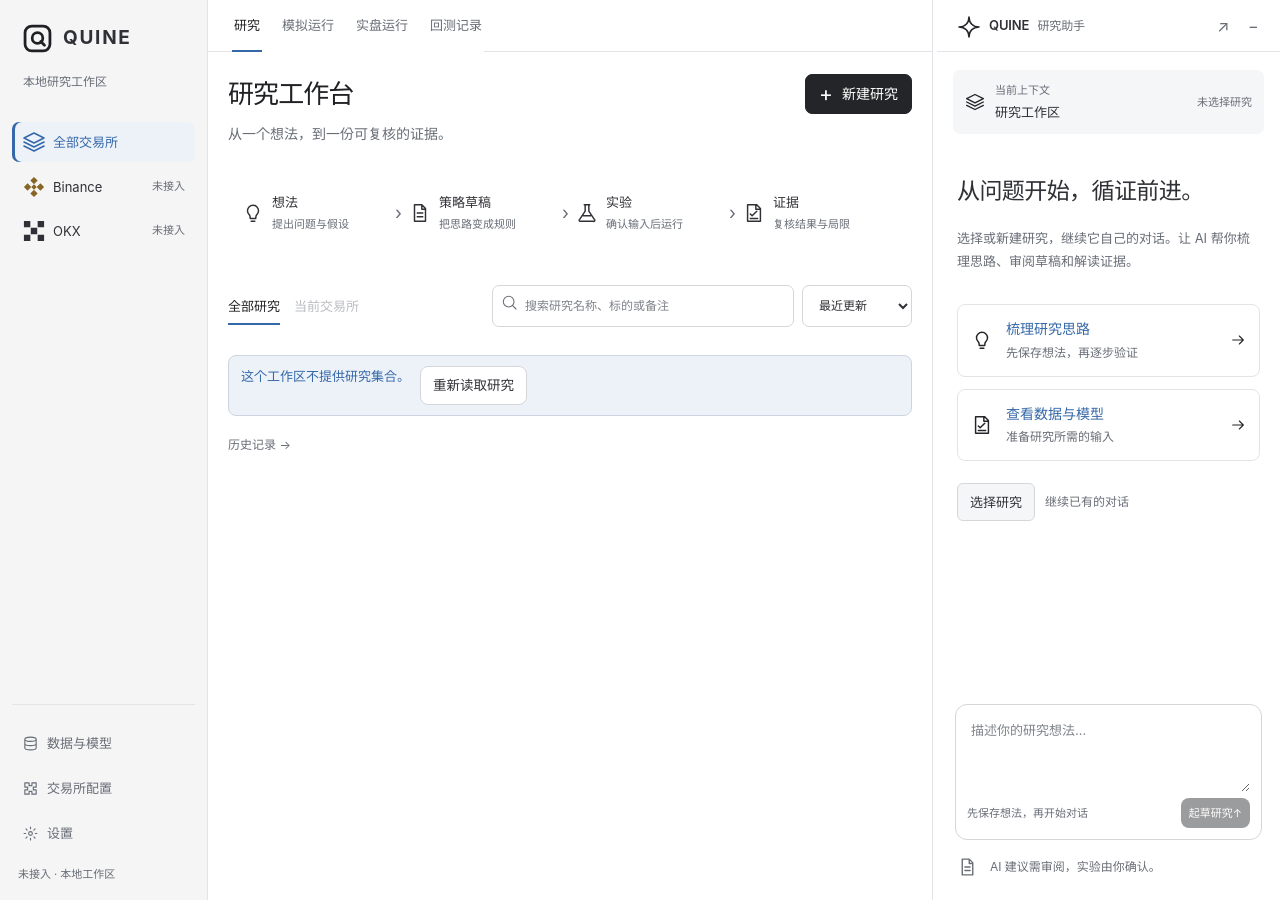
Scenario: stages an assistant idea without creating research and retains it when the form is closed
In the text box labelled "研究想法": (1108, 754) x1=967 y1=716 x2=1250 y2=792, type "观察不同波动阶段的表现"
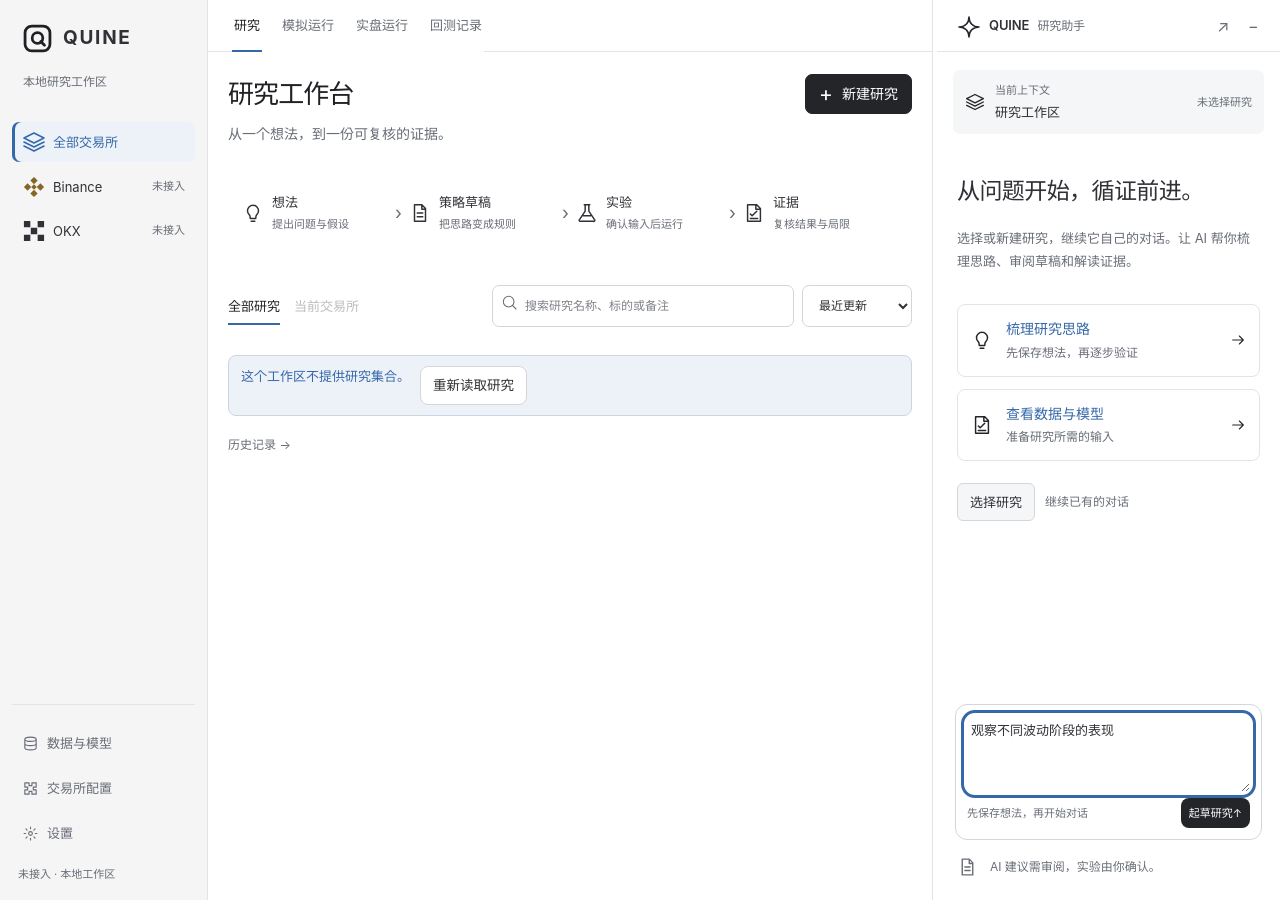
Click the button "起草研究 ↑": (1215, 813) x1=1181 y1=798 x2=1250 y2=828
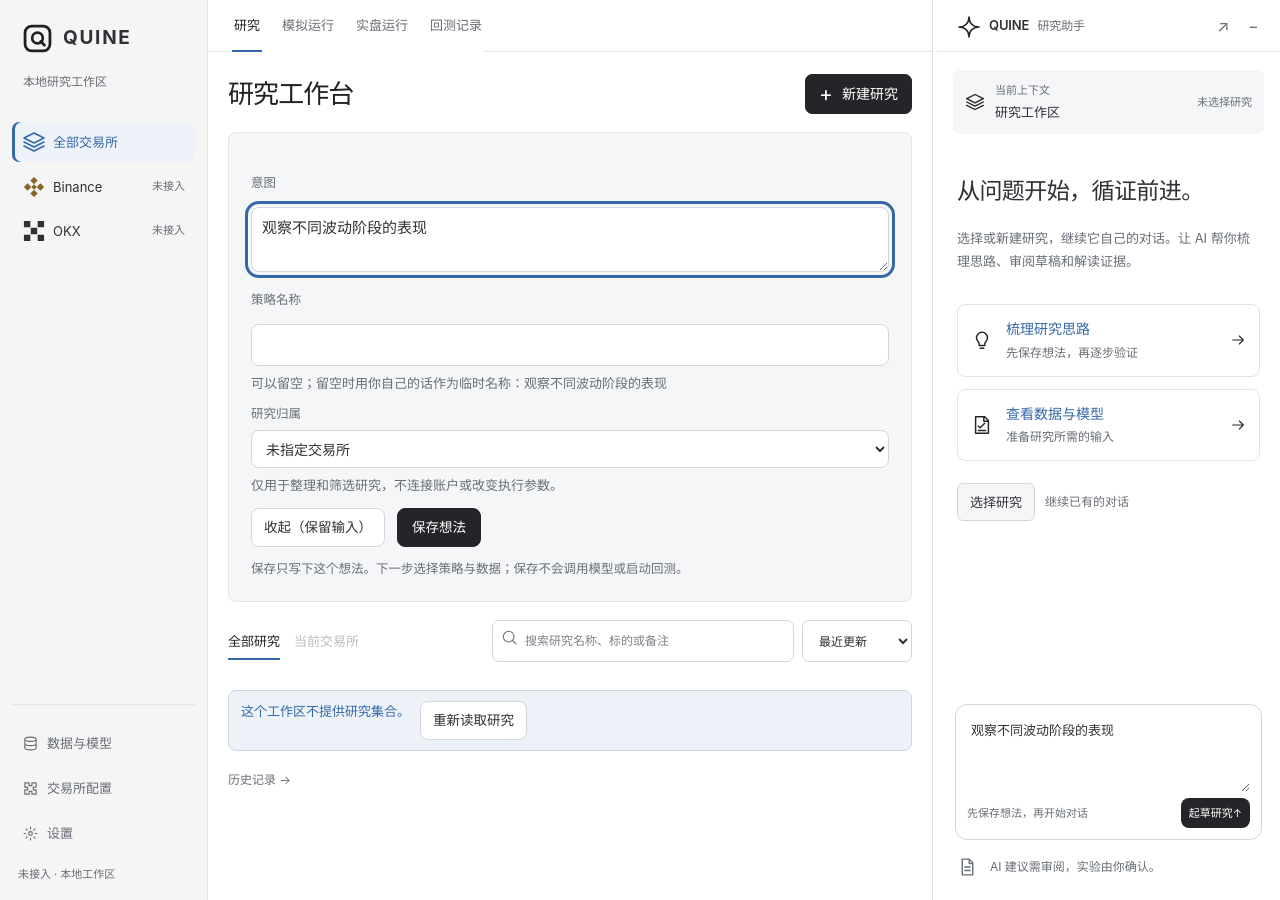
Result: the text box labelled "意图" holds "观察不同波动阶段的表现" at x1=251 y1=207 x2=889 y2=272
Click the button "收起（保留输入）": (318, 527) x1=251 y1=508 x2=385 y2=547
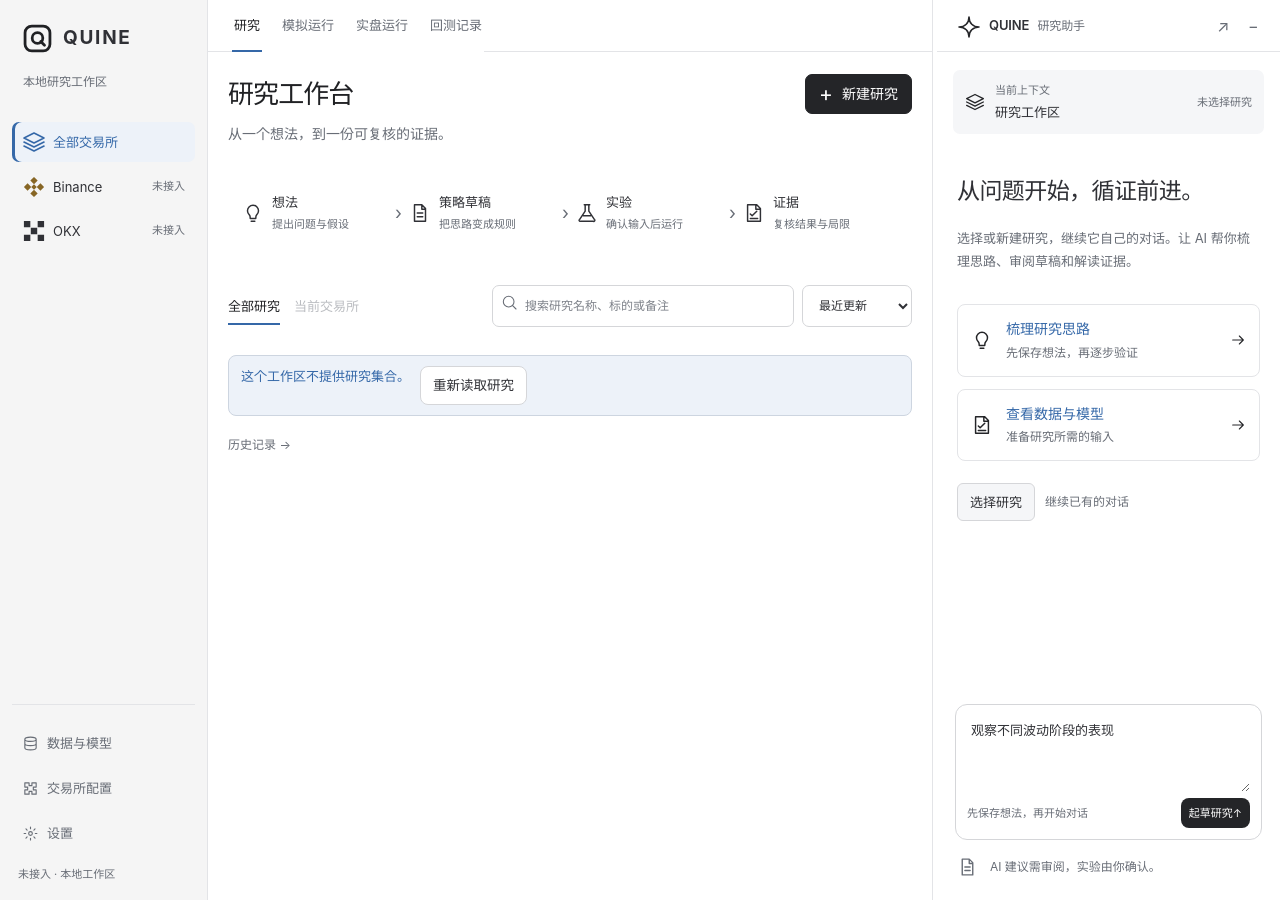
Click the button "+ 新建研究": (859, 94) x1=805 y1=74 x2=912 y2=114
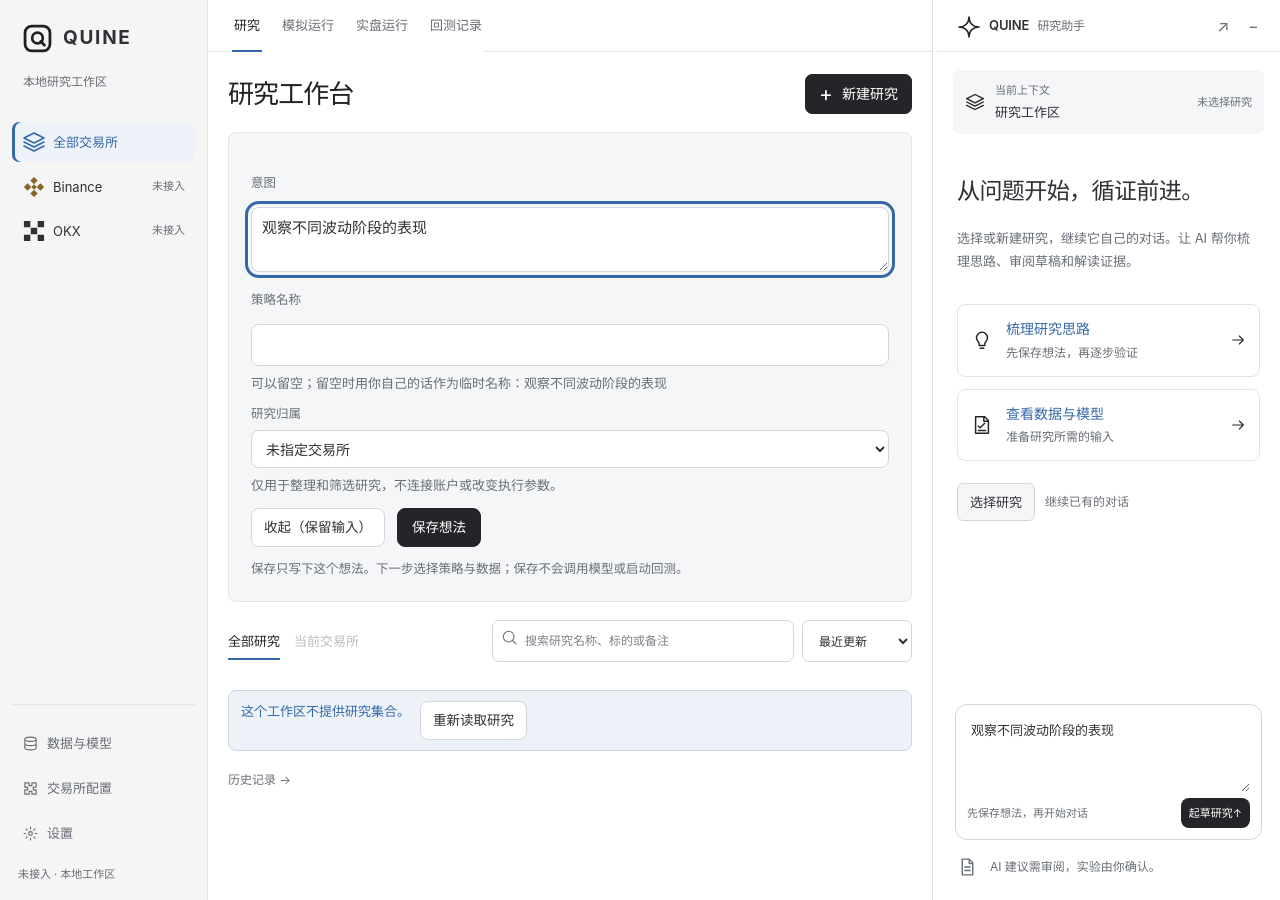
Result: the text box labelled "意图" holds "观察不同波动阶段的表现" at x1=251 y1=207 x2=889 y2=272
